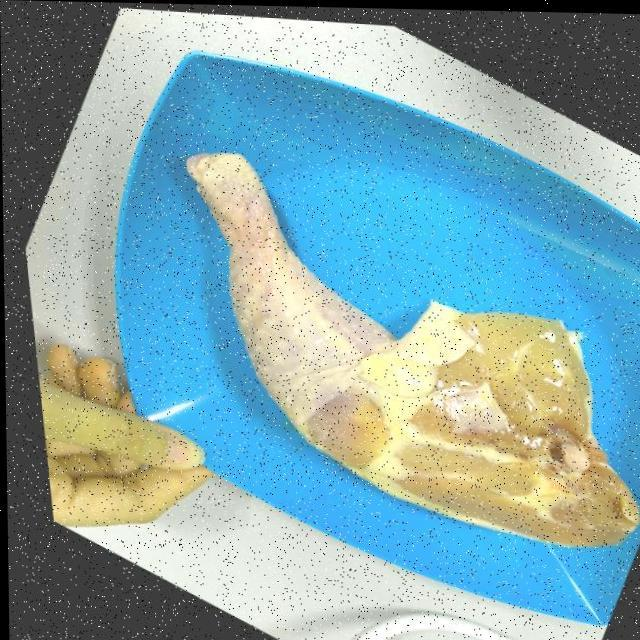quater: (184, 147, 640, 541)
